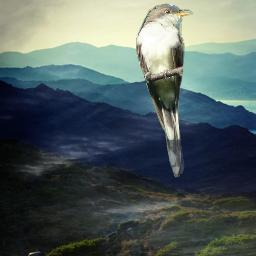Cuckoo: (136, 3, 193, 178)
